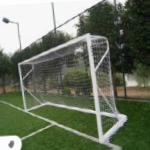goals: (16, 31, 127, 142)
